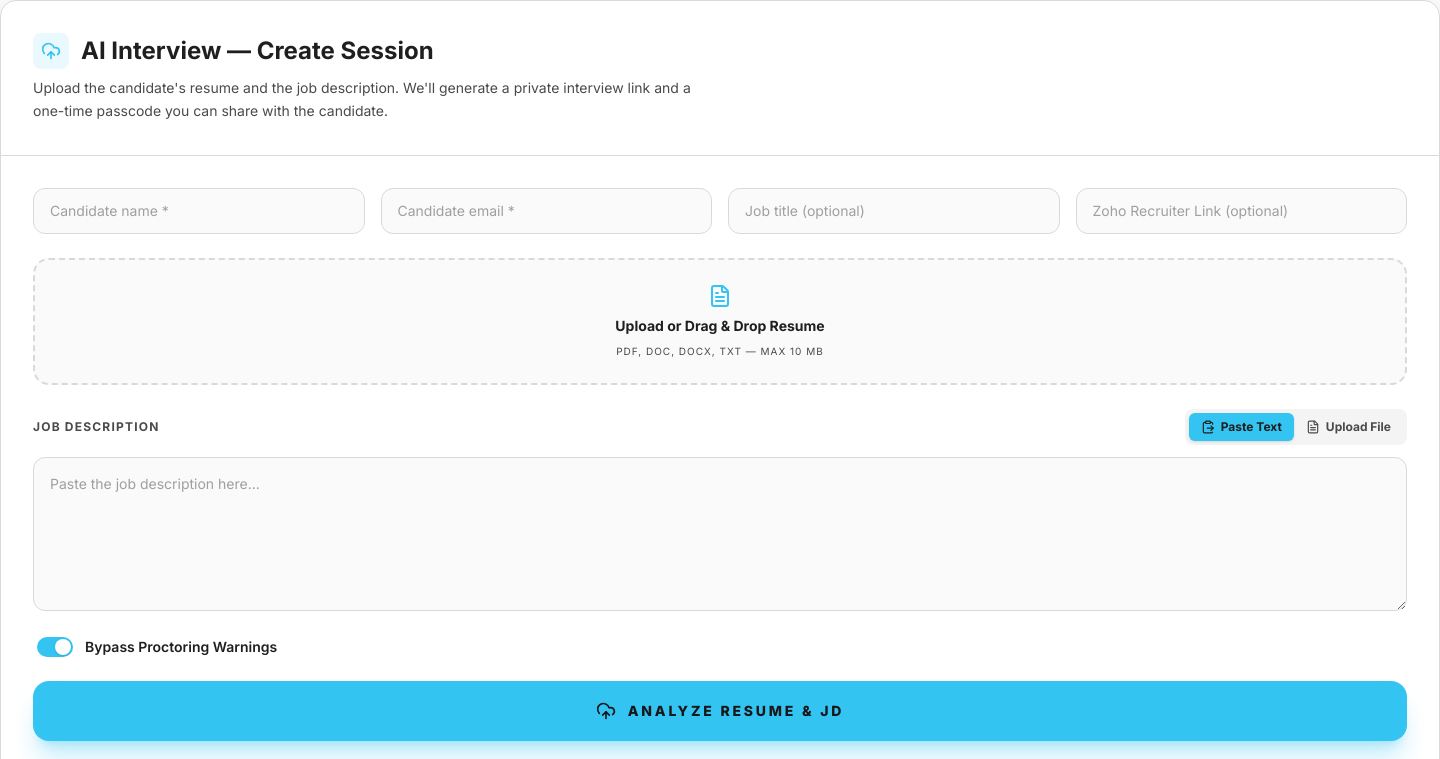
Scenario: Admin create-interview form — UI scenarios › TC-UI-03 Blocks submission with no resume attached
The width and height of the screenshot is (1440, 759).
In the field with placeholder "Candidate name *": {"x": 199, "y": 210} [33,188,364,234], type "Jane Doe"
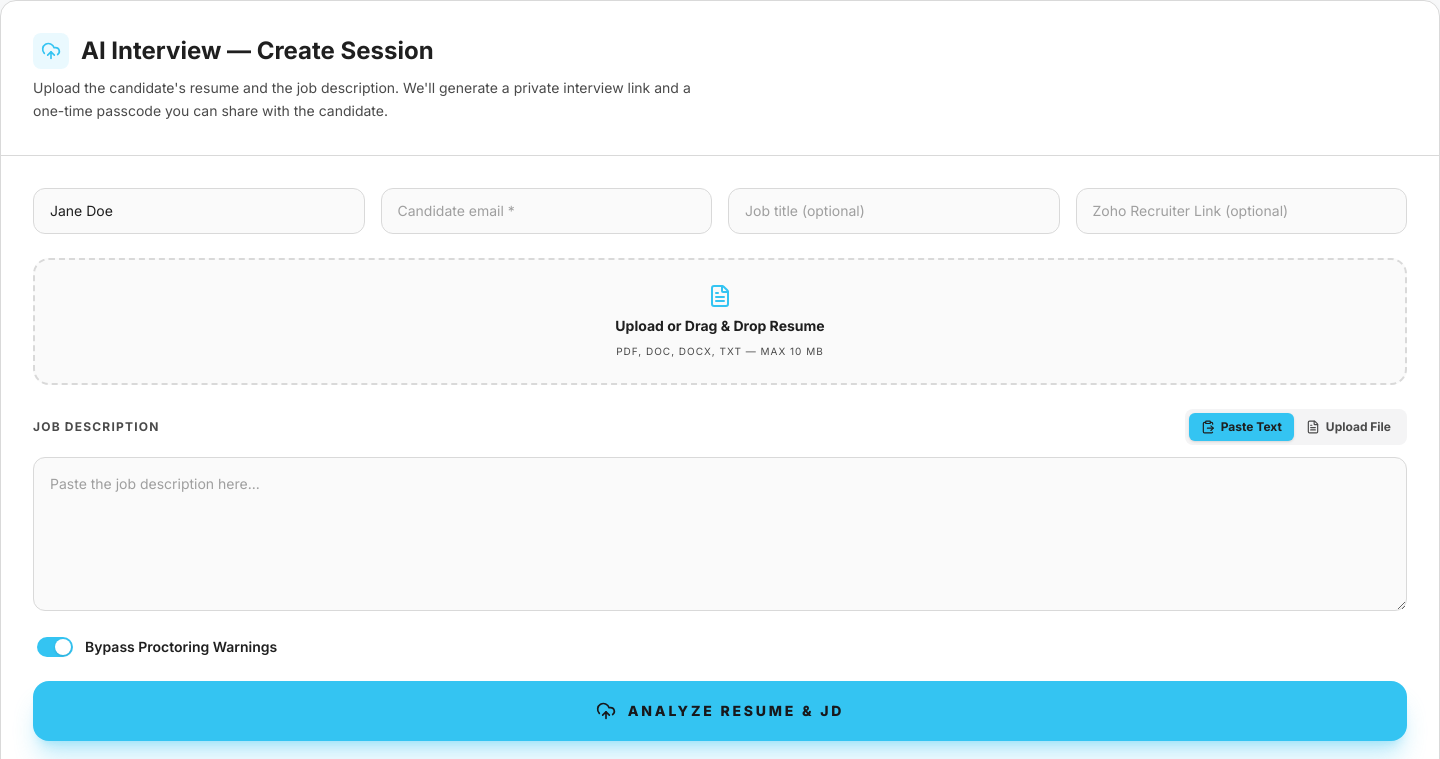
In the field with placeholder "Candidate email *": {"x": 546, "y": 210} [380,188,712,234], type "jane@example.com"
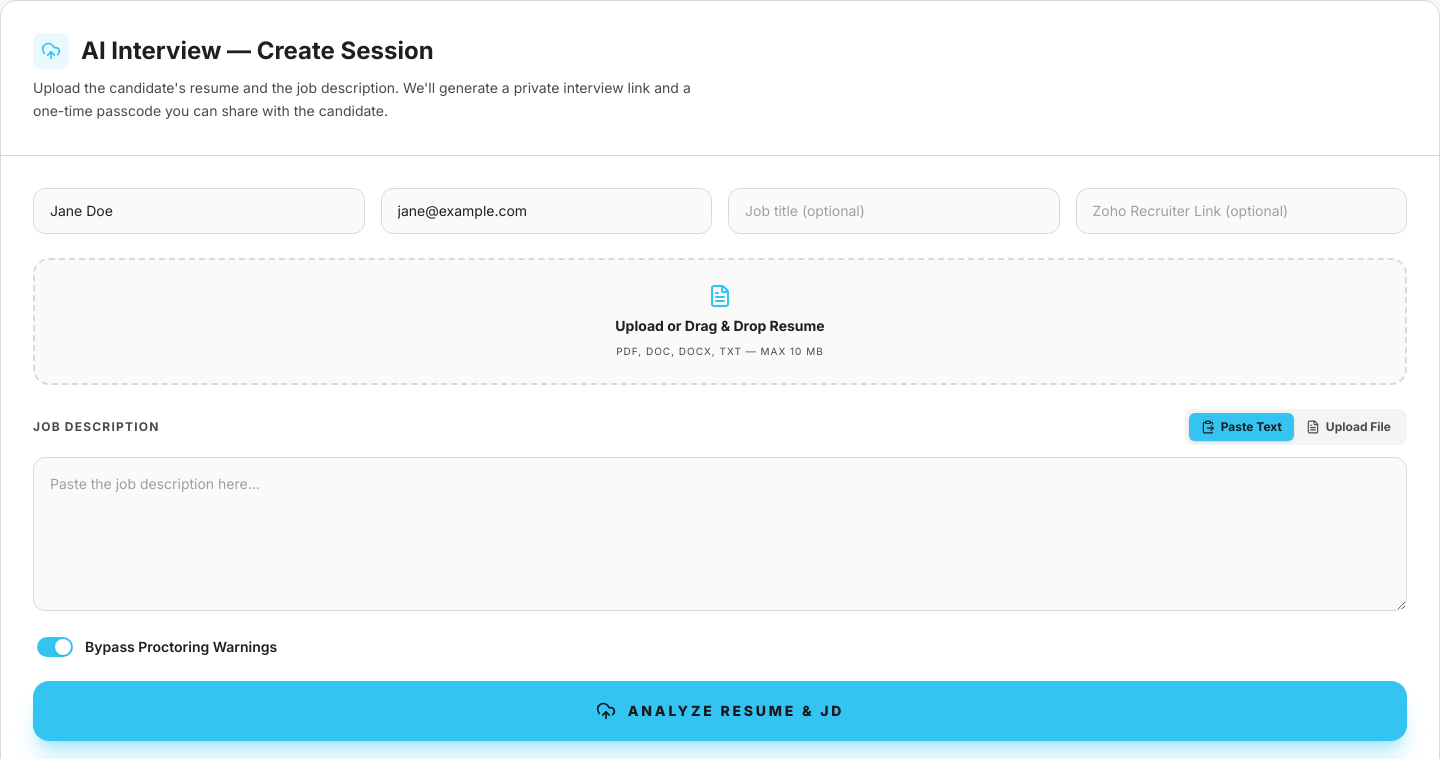
Click the button "Analyze Resume & JD": {"x": 720, "y": 710} [33,680,1407,740]
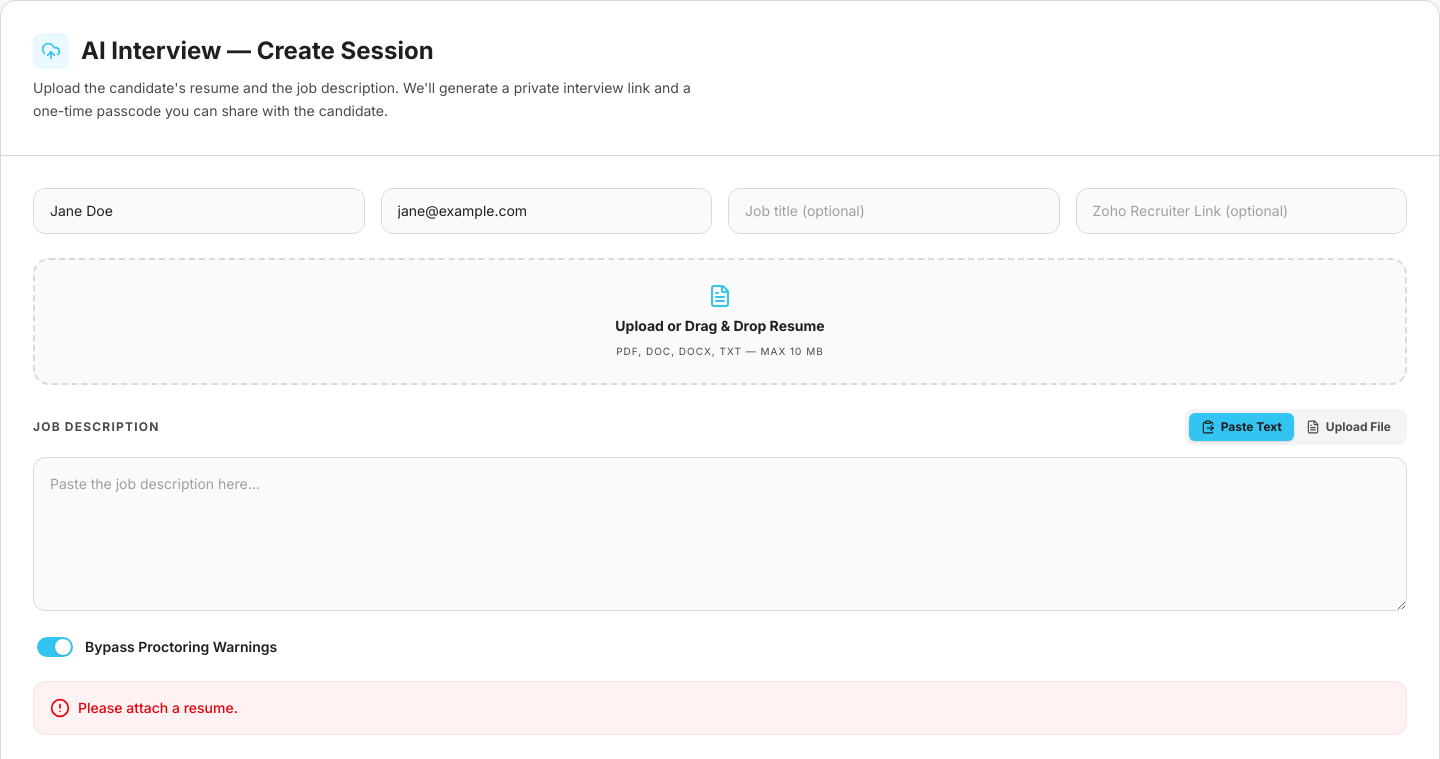
Now the text "Please attach a resume." is shown, box [78,698,238,718]
